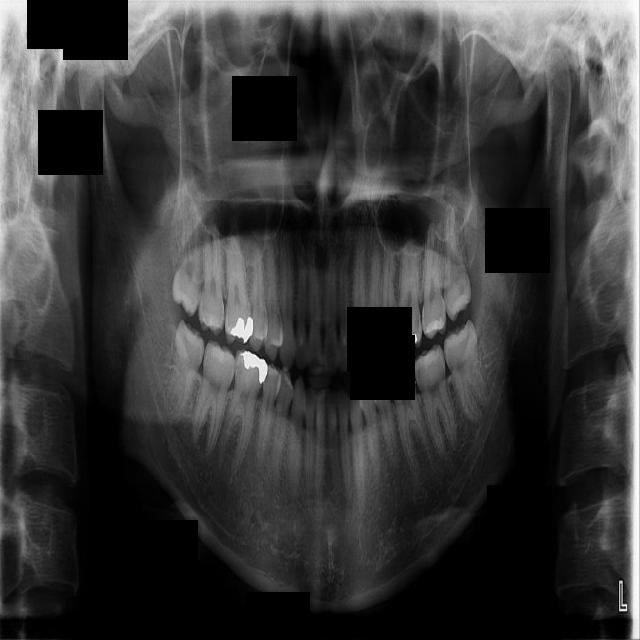3M ESPE Implant: (171, 199, 204, 317)
52: (235, 347, 269, 394), (380, 353, 421, 391), (224, 298, 254, 344), (394, 308, 423, 349), (420, 297, 447, 340), (379, 321, 399, 356), (294, 326, 309, 369), (338, 330, 353, 373), (417, 368, 423, 381), (417, 313, 421, 325), (398, 312, 400, 319), (422, 315, 424, 322)
73: (619, 615, 629, 621)
BioHorizons Implant: (418, 211, 447, 340)
BioLife Implant: (443, 207, 471, 322)
Biomet 3i Implant: (438, 317, 493, 427)
Blue Sky Bio Implant: (409, 341, 461, 463)
Caries: (192, 206, 226, 338)
Implant: (186, 339, 241, 461)
Keystone Dental Implant: (153, 318, 212, 428)
